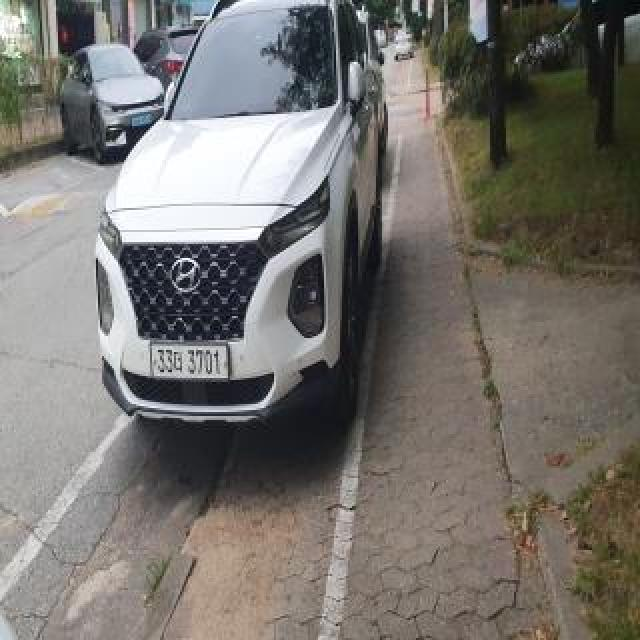car: (86, 0, 400, 455)
illegal_plate: (150, 341, 233, 388)
